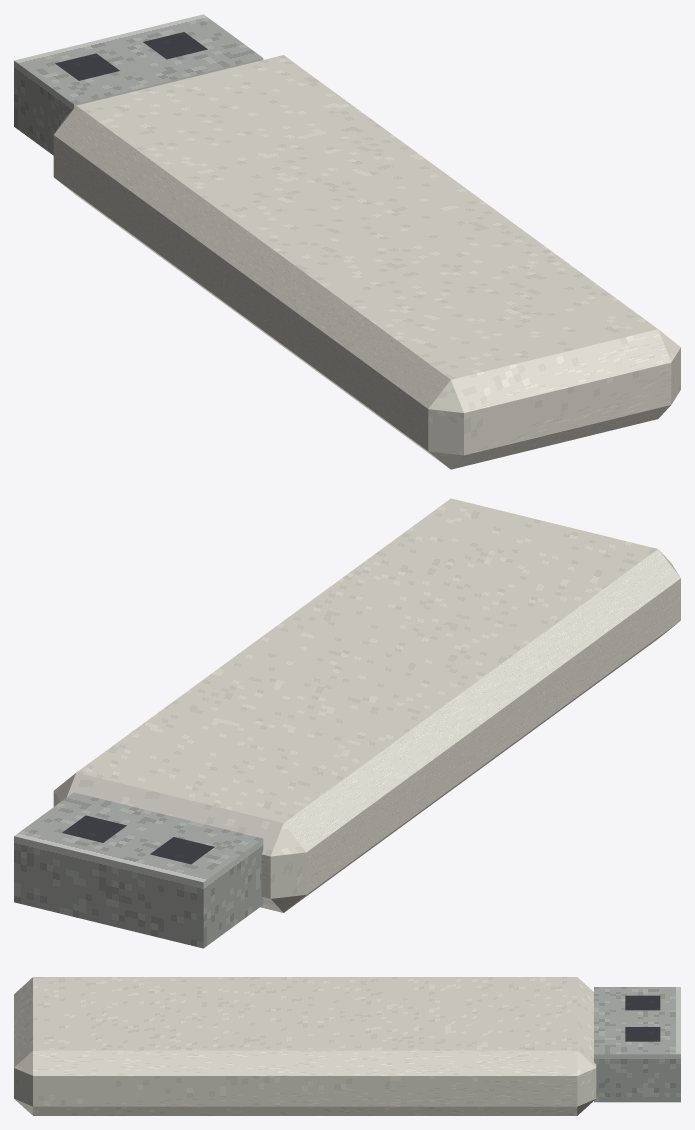
Rendered from usb_drive_older.glb.
3 views of the same model, one above another, from view 1: azimuth 30°, elevation 25°; view 2: azimuth 150°, elevation 25°; view 3: azimuth 270°, elevation 25° (orthographic). The views are drawn at different scales.
Visible parts, largest first — view 1: block_data case, block_USB connector, block_retaining hole (×2); view 2: block_data case, block_USB connector, block_retaining hole (×2); view 3: block_data case, block_USB connector, block_retaining hole (×2).
Part boxes in pixels (left/top/right/bottom): block_data case: left=53, top=55, right=680, bottom=469; block_USB connector: left=14, top=14, right=263, bottom=155; block_retaining hole (×2): left=55, top=32, right=207, bottom=80; block_data case: left=53, top=498, right=680, bottom=912; block_USB connector: left=14, top=792, right=263, bottom=948; block_retaining hole (×2): left=62, top=815, right=214, bottom=864; block_data case: left=14, top=977, right=596, bottom=1115; block_USB connector: left=594, top=987, right=680, bottom=1102; block_retaining hole (×2): left=625, top=995, right=660, bottom=1041.
Size of the model in its own units: 0.0159 by 0.0054 by 0.05.
Materials: 1 (1 with a texture image).
